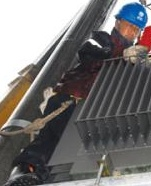boots: (0, 151, 43, 186), (120, 113, 151, 149)
gloves: (123, 43, 148, 63), (133, 27, 151, 50)
hard-hat: (115, 1, 148, 28)
ppe-suit: (2, 0, 151, 186)
